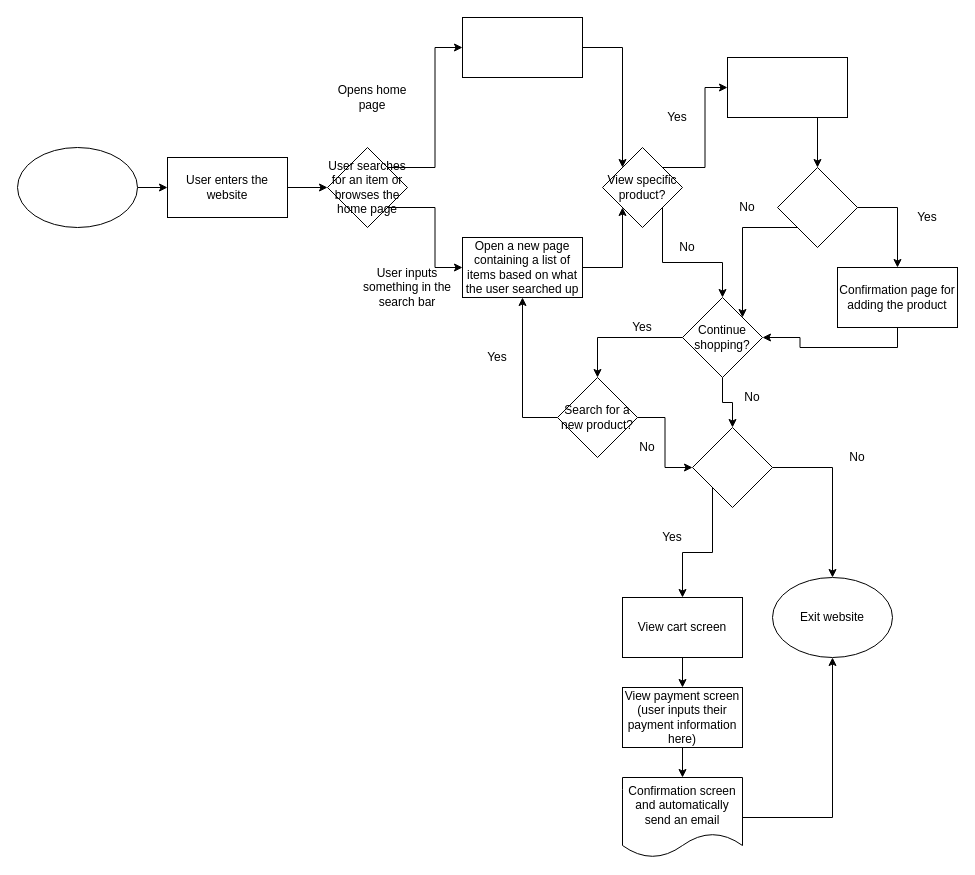
Image size: 975x875. Some labels were removed from this diagram. The centre of each missing label's shape, as x and y in pixels:
Checkout?: point 732,467
Home page: point 522,47
Open product's website: point 787,87
Start: point 77,187
User adds this item to the cart?: point 817,207
